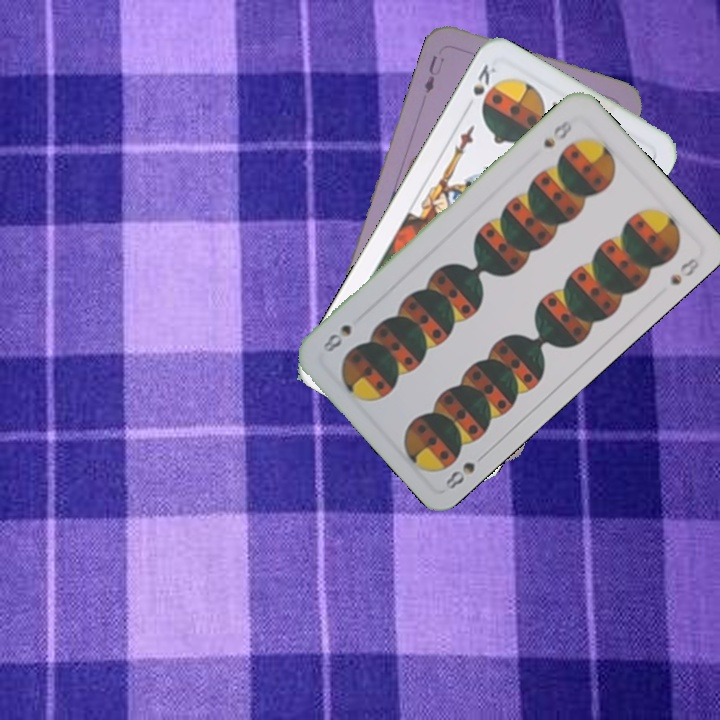EU: (420, 51, 448, 96)
S8: (441, 447, 491, 493), (539, 116, 575, 151)
SK: (468, 60, 500, 98)
